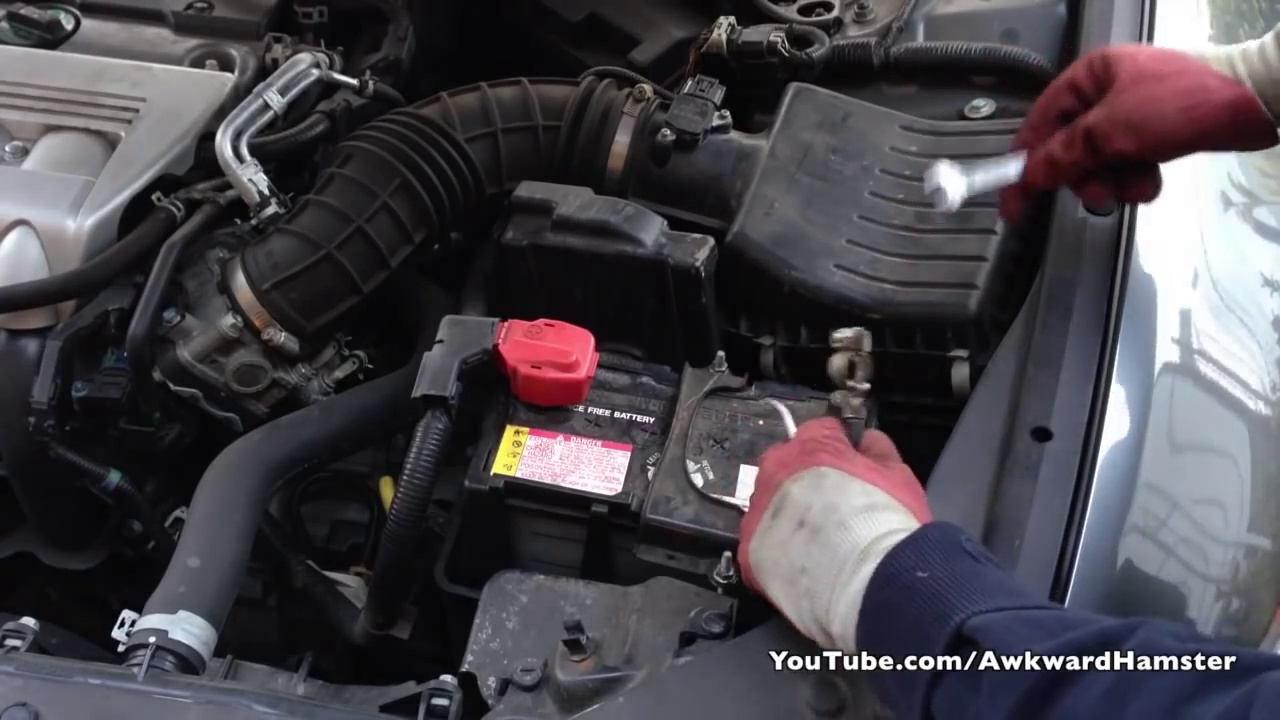battery: (460, 339, 849, 561)
pos_connected: (427, 293, 623, 420)
